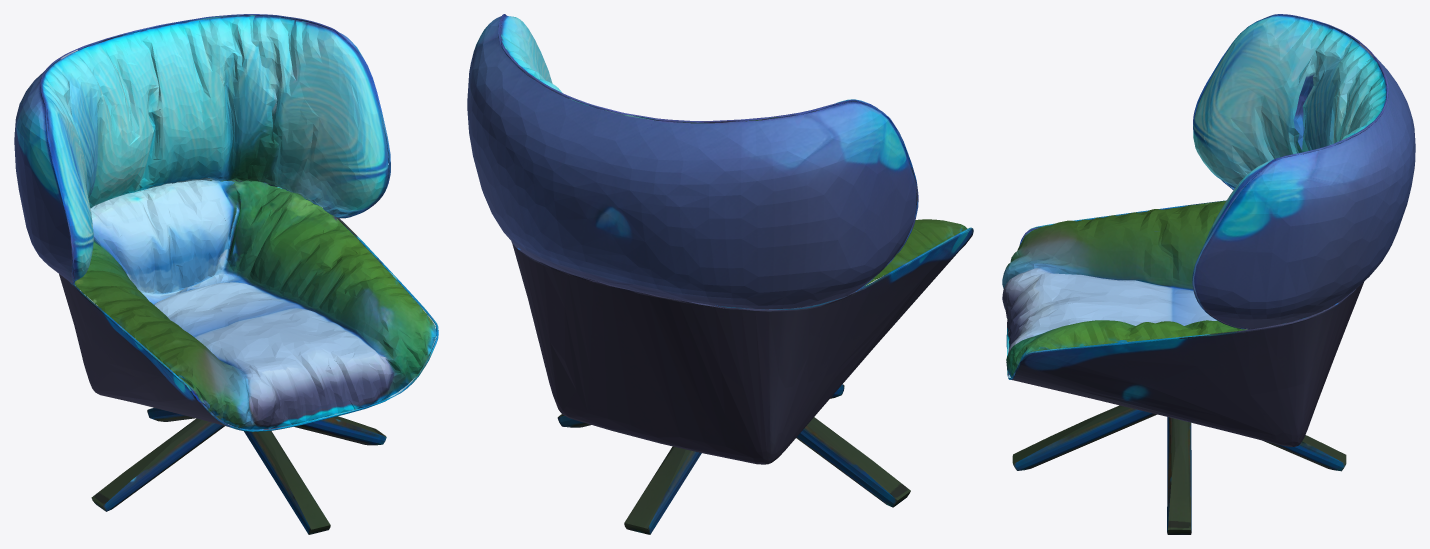
Rendered from edited_mesh.glb.
3 renders of one model, left to right at view 1: azimuth 30°, elevation 25°; view 2: azimuth 150°, elevation 25°; view 3: azimuth 270°, elevation 25°, orthographic. The views are drawn at different scales.
Visible parts, largest first — view 1: solid_001_wire; view 2: solid_001_wire; view 3: solid_001_wire.
Part boxes in pixels (bbox=[...]): solid_001_wire: bbox=[14, 14, 438, 534]; solid_001_wire: bbox=[467, 14, 973, 534]; solid_001_wire: bbox=[1002, 14, 1415, 534].
Bounding box in the file's own units: 1.24 × 1.34 × 1.31.
Materials: 1 (1 with a texture image).
